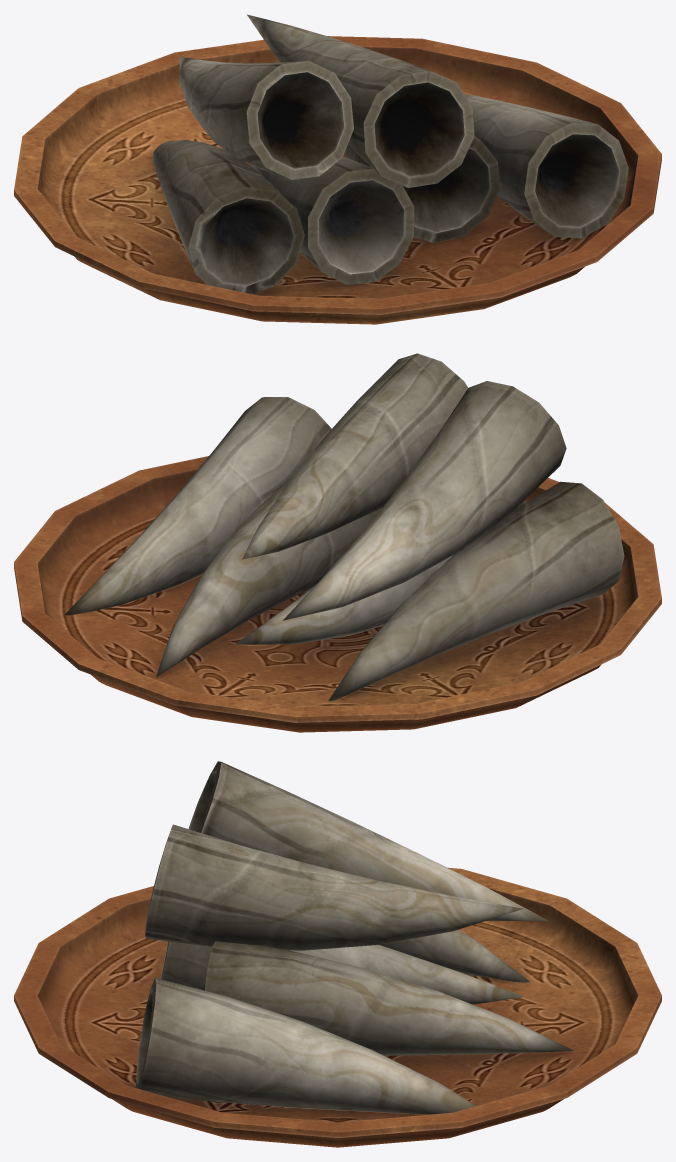
Rendered from DS_WizLab_Clut_ProbesHorns.fbx.
3 views of the same model, one above another, from view 1: azimuth 30°, elevation 25°; view 2: azimuth 150°, elevation 25°; view 3: azimuth 270°, elevation 25° (orthographic).
Parts seen in each view (by area): view 1: DS_WizLab_Clut_ProbesHorns; view 2: DS_WizLab_Clut_ProbesHorns; view 3: DS_WizLab_Clut_ProbesHorns.
Boxes of the visible parts, x1,y1,x2,y2 form: DS_WizLab_Clut_ProbesHorns: [14, 14, 661, 324]; DS_WizLab_Clut_ProbesHorns: [14, 353, 661, 732]; DS_WizLab_Clut_ProbesHorns: [14, 761, 661, 1147].
Bounding box in the file's own units: 50.25 × 20.39 × 50.25.
Materials: 1 (1 with a texture image).
